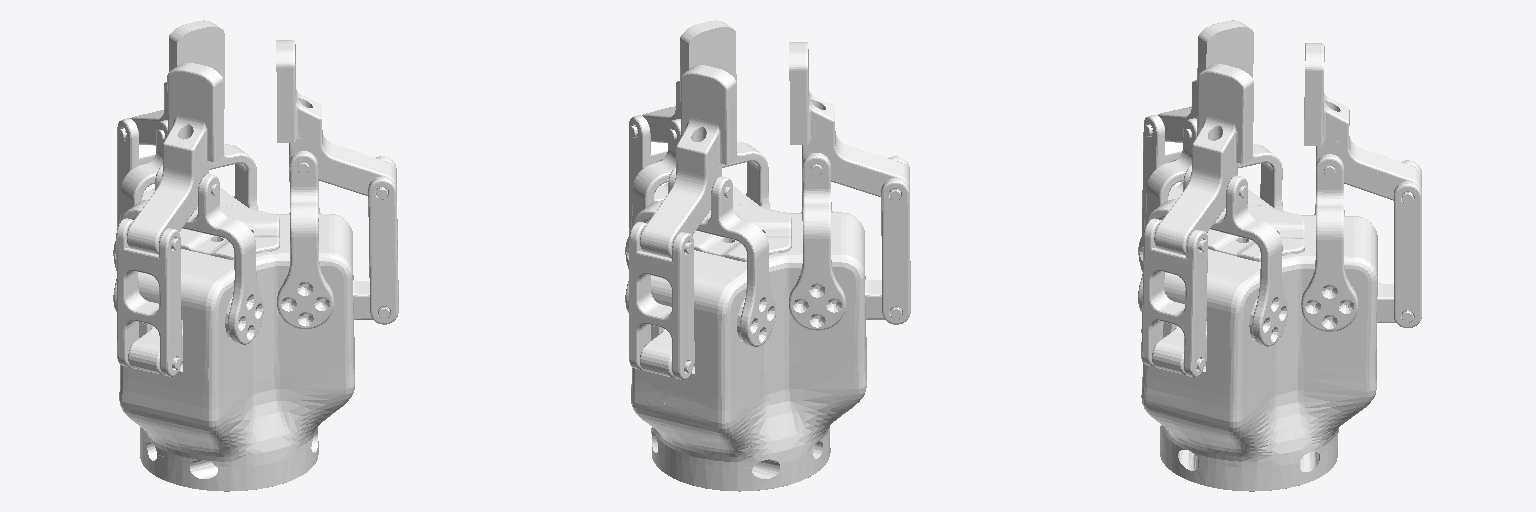
robot.urdf — crt_ctm3f123:
<?xml version="1.0" encoding="utf-8"?>

<robot
  name="crt_ctm3f123">
  <link
    name="base_link">
    <inertial>
      <origin
        xyz="6.10483661037337E-05 0.00088712829711066 0.0548484947516896"
        rpy="0 0 0" />
      <mass
        value="0.606673726061038" />
      <inertia
        ixx="0.000810504728231977"
        ixy="2.86132951420374E-08"
        ixz="1.65426694206615E-06"
        iyy="0.000811428888685944"
        iyz="-2.02043306195685E-06"
        izz="0.000686571783532389" />
    </inertial>
    <visual>
      <origin
        xyz="0 0 0"
        rpy="0 0 0" />
      <geometry>
        <mesh
          filename="package://crt_ctm3f123_gripper_visualization/meshes/base_link.STL" />
      </geometry>
      <material
        name="">
        <color
          rgba="1 1 1 1" />
      </material>
    </visual>
    <collision>
      <origin
        xyz="0 0 0"
        rpy="0 0 0" />
      <geometry>
        <mesh
          filename="package://crt_ctm3f123_gripper_visualization/meshes/base_link.STL" />
      </geometry>
    </collision>
  </link>
  <link
    name="Main_1_Link">
    <inertial>
      <origin
        xyz="-0.000535747842268744 0.0329508527955374 -9.0000000000002E-05"
        rpy="0 0 0" />
      <mass
        value="0.0157120232933615" />
      <inertia
        ixx="1.04207957946001E-05"
        ixy="6.65261563033867E-08"
        ixz="-2.79695286376013E-21"
        iyy="6.3302257174426E-06"
        iyz="-1.48966365300576E-21"
        izz="4.56030811672516E-06" />
    </inertial>
    <visual>
      <origin
        xyz="0 0 0"
        rpy="0 0 0" />
      <geometry>
        <mesh
          filename="package://crt_ctm3f123_gripper_visualization/meshes/Main_1_Link.STL" />
      </geometry>
      <material
        name="">
        <color
          rgba="1 1 1 1" />
      </material>
    </visual>
    <collision>
      <origin
        xyz="0 0 0"
        rpy="0 0 0" />
      <geometry>
        <mesh
          filename="package://crt_ctm3f123_gripper_visualization/meshes/Main_1_Link.STL" />
      </geometry>
    </collision>
  </link>
  <joint
    name="Main_1_Joint"
    type="revolute">
    <origin
      xyz="0 0.033994 0.082211"
      rpy="1.5708 0.016174 1.5708" />
    <parent
      link="base_link" />
    <child
      link="Main_1_Link" />
    <axis
      xyz="0 0 1" />
    <limit
      lower="0"
      upper="-1"
      effort="2"
      velocity="1000" />
  </joint>
  <link
    name="Out_1_Link">
    <inertial>
      <origin
        xyz="-0.000238568911329937 0.0199085484128003 -8.99982504162629E-05"
        rpy="0 0 0" />
      <mass
        value="0.0136187304994763" />
      <inertia
        ixx="3.64179520695042E-06"
        ixy="1.85391666443482E-08"
        ixz="-1.07591799730526E-13"
        iyy="1.17762675681499E-06"
        iyz="-4.06303403749204E-13"
        izz="2.69525213768084E-06" />
    </inertial>
    <visual>
      <origin
        xyz="0 0 0"
        rpy="0 0 0" />
      <geometry>
        <mesh
          filename="package://crt_ctm3f123_gripper_visualization/meshes/Out_1_Link.STL" />
      </geometry>
      <material
        name="">
        <color
          rgba="1 1 1 1" />
      </material>
    </visual>
    <collision>
      <origin
        xyz="0 0 0"
        rpy="0 0 0" />
      <geometry>
        <mesh
          filename="package://crt_ctm3f123_gripper_visualization/meshes/Out_1_Link.STL" />
      </geometry>
    </collision>
  </link>
  <joint
    name="Out_1_Joint"
    type="revolute">
    <origin
      xyz="0 0.0667911467519449 0.0696788586422166"
      rpy="1.5707963267949 0.0161743379073906 1.57079632679491" />
    <parent
      link="base_link" />
    <child
      link="Out_1_Link" />
    <axis
      xyz="0 0 1" />
    <limit
      lower="0"
      upper="0"
      effort="0"
      velocity="0" />
    <mimic
      joint="Main_1_Joint"
      multiplier="1"
      offset="0" />
  </joint>
  <link
    name="Support_1_Link">
    <inertial>
      <origin
        xyz="-0.0123631851738163 0.00547576442060571 -8.99999779483683E-05"
        rpy="0 0 0" />
      <mass
        value="0.0122909079008009" />
      <inertia
        ixx="8.48949906863574E-07"
        ixy="4.95789221160508E-07"
        ixz="2.06056282894619E-16"
        iyy="1.50474900925647E-06"
        iyz="-1.70451449345108E-15"
        izz="1.48435203428893E-06" />
    </inertial>
    <visual>
      <origin
        xyz="0 0 0"
        rpy="0 0 0" />
      <geometry>
        <mesh
          filename="package://crt_ctm3f123_gripper_visualization/meshes/Support_1_Link.STL" />
      </geometry>
      <material
        name="">
        <color
          rgba="1 1 1 1" />
      </material>
    </visual>
    <collision>
      <origin
        xyz="0 0 0"
        rpy="0 0 0" />
      <geometry>
        <mesh
          filename="package://crt_ctm3f123_gripper_visualization/meshes/Support_1_Link.STL" />
      </geometry>
    </collision>
  </link>
  <joint
    name="Support_1_Joint"
    type="revolute">
    <origin
      xyz="-0.000889549797987152 0.0549928059036544 0"
      rpy="0 0 0" />
    <parent
      link="Out_1_Link" />
    <child
      link="Support_1_Link" />
    <axis
      xyz="0 0 1" />
    <limit
      lower="0"
      upper="0"
      effort="0"
      velocity="0" />
    <mimic
      joint="Main_1_Joint"
      multiplier="-1"
      offset="0" />
  </joint>
  <link
    name="Pad_1_Link">
    <inertial>
      <origin
        xyz="0.00493838635631292 -0.000177137702892627 -8.99989859266225E-05"
        rpy="0 0 0" />
      <mass
        value="0.00909573489215947" />
      <inertia
        ixx="1.5263456533175E-06"
        ixy="1.37219715171367E-07"
        ixz="-5.68914467932543E-15"
        iyy="4.74434481145163E-07"
        iyz="2.1359093024446E-15"
        izz="1.28732406525385E-06" />
    </inertial>
    <visual>
      <origin
        xyz="0 0 0"
        rpy="0 0 0" />
      <geometry>
        <mesh
          filename="package://crt_ctm3f123_gripper_visualization/meshes/Pad_1_Link.STL" />
      </geometry>
      <material
        name="">
        <color
          rgba="1 1 1 1" />
      </material>
    </visual>
    <collision>
      <origin
        xyz="0 0 0"
        rpy="0 0 0" />
      <geometry>
        <mesh
          filename="package://crt_ctm3f123_gripper_visualization/meshes/Pad_1_Link.STL" />
      </geometry>
    </collision>
  </link>
  <joint
    name="Pad_1_Joint"
    type="fixed">
    <origin
      xyz="-0.043496177396521 0.0402499021664913 0"
      rpy="0 0 0" />
    <parent
      link="Support_1_Link" />
    <child
      link="Pad_1_Link" />
    <axis
      xyz="0 0 0" />
  </joint>
  <link
    name="Main_2_Link">
    <inertial>
      <origin
        xyz="2.45539699683661E-13 0.0329552078692227 -5.15540735102071E-13"
        rpy="0 0 0" />
      <mass
        value="0.0157120232933615" />
      <inertia
        ixx="1.04218774432274E-05"
        ixy="9.95511867207569E-22"
        ixz="-2.32934060494933E-21"
        iyy="6.32914406881531E-06"
        iyz="-2.40089172793516E-21"
        izz="4.56030811672515E-06" />
    </inertial>
    <visual>
      <origin
        xyz="0 0 0"
        rpy="0 0 0" />
      <geometry>
        <mesh
          filename="package://crt_ctm3f123_gripper_visualization/meshes/Main_2_Link.STL" />
      </geometry>
      <material
        name="">
        <color
          rgba="1 1 1 1" />
      </material>
    </visual>
    <collision>
      <origin
        xyz="0 0 0"
        rpy="0 0 0" />
      <geometry>
        <mesh
          filename="package://crt_ctm3f123_gripper_visualization/meshes/Main_2_Link.STL" />
      </geometry>
    </collision>
  </link>
  <joint
    name="Main_2_Joint"
    type="revolute">
    <origin
      xyz="-0.028329 -0.014912 0.083002"
      rpy="1.5848 -0.0068726 -2.618" />
    <parent
      link="base_link" />
    <child
      link="Main_2_Link" />
    <axis
      xyz="0 0 1" />
    <limit
      lower="0"
      upper="-1"
      effort="2"
      velocity="1000" />
  </joint>
  <link
    name="Out_2_Link">
    <inertial>
      <origin
        xyz="8.3455594281967E-05 0.0199098028677392 1.79239523917518E-09"
        rpy="0 0 0" />
      <mass
        value="0.0136187304994763" />
      <inertia
        ixx="3.64175022691304E-06"
        ixy="-2.13198748979172E-08"
        ixz="-1.1414912755192E-13"
        iyy="1.17767173685237E-06"
        iyz="-4.04510112385358E-13"
        izz="2.69525213768084E-06" />
    </inertial>
    <visual>
      <origin
        xyz="0 0 0"
        rpy="0 0 0" />
      <geometry>
        <mesh
          filename="package://crt_ctm3f123_gripper_visualization/meshes/Out_2_Link.STL" />
      </geometry>
      <material
        name="">
        <color
          rgba="1 1 1 1" />
      </material>
    </visual>
    <collision>
      <origin
        xyz="0 0 0"
        rpy="0 0 0" />
      <geometry>
        <mesh
          filename="package://crt_ctm3f123_gripper_visualization/meshes/Out_2_Link.STL" />
      </geometry>
    </collision>
  </link>
  <joint
    name="Out_2_Joint"
    type="revolute">
    <origin
      xyz="-0.0569042876721976 -0.0316012145153478 0.0712704287330768"
      rpy="1.58480388452747 -0.00678989444617694 -2.61803234894306" />
    <parent
      link="base_link" />
    <child
      link="Out_2_Link" />
    <axis
      xyz="0 0 1" />
    <limit
      lower="0"
      upper="0"
      effort="0"
      velocity="0" />
    <mimic
      joint="Main_2_Joint"
      multiplier="1"
      offset="0" />
  </joint>
  <link
    name="Support_2_Link">
    <inertial>
      <origin
        xyz="-0.0123702645443338 0.00545975303282406 2.19268804502182E-11"
        rpy="0 0 0" />
      <mass
        value="0.0122909079008008" />
      <inertia
        ixx="8.47667196140137E-07"
        ixy="4.94938487017408E-07"
        ixz="2.08263537691881E-16"
        iyy="1.50603171997988E-06"
        iyz="-1.70424784352713E-15"
        izz="1.48435203428892E-06" />
    </inertial>
    <visual>
      <origin
        xyz="0 0 0"
        rpy="0 0 0" />
      <geometry>
        <mesh
          filename="package://crt_ctm3f123_gripper_visualization/meshes/Support_2_Link.STL" />
      </geometry>
      <material
        name="">
        <color
          rgba="1 1 1 1" />
      </material>
    </visual>
    <collision>
      <origin
        xyz="0 0 0"
        rpy="0 0 0" />
      <geometry>
        <mesh
          filename="package://crt_ctm3f123_gripper_visualization/meshes/Support_2_Link.STL" />
      </geometry>
    </collision>
  </link>
  <joint
    name="Support_2_Joint"
    type="revolute">
    <origin
      xyz="0 0.0549999999999986 0"
      rpy="0 0 0" />
    <parent
      link="Out_2_Link" />
    <child
      link="Support_2_Link" />
    <axis
      xyz="0 0 -1" />
    <limit
      lower="0"
      upper="0"
      effort="0"
      velocity="0" />
    <mimic
      joint="Main_2_Joint"
      multiplier="1"
      offset="0" />
  </joint>
  <link
    name="Pad_2_Link">
    <inertial>
      <origin
        xyz="0.00444230028121621 -0.000177148196383092 1.59317946335502E-09"
        rpy="0 0 0" />
      <mass
        value="0.00909573436524331" />
      <inertia
        ixx="1.526346267087E-06"
        ixy="1.37217372336794E-07"
        ixz="-5.65396096890285E-14"
        iyy="4.74434022342762E-07"
        iyz="5.61264906120924E-14"
        izz="1.28732422145679E-06" />
    </inertial>
    <visual>
      <origin
        xyz="0 0 0"
        rpy="0 0 0" />
      <geometry>
        <mesh
          filename="package://crt_ctm3f123_gripper_visualization/meshes/Pad_2_Link.STL" />
      </geometry>
      <material
        name="">
        <color
          rgba="1 1 1 1" />
      </material>
    </visual>
    <collision>
      <origin
        xyz="0 0 0"
        rpy="0 0 0" />
      <geometry>
        <mesh
          filename="package://crt_ctm3f123_gripper_visualization/meshes/Pad_2_Link.STL" />
      </geometry>
    </collision>
  </link>
  <joint
    name="Pad_2_Joint"
    type="fixed">
    <origin
      xyz="-0.0430521666305954 0.0401941967009787 0"
      rpy="0 0 0.00129696423438193" />
    <parent
      link="Support_2_Link" />
    <child
      link="Pad_2_Link" />
    <axis
      xyz="0 0 0" />
  </joint>
  <link
    name="Main_3_Link">
    <inertial>
      <origin
        xyz="-3.36876360140792E-13 0.0329552078692228 0.0235000000001598"
        rpy="0 0 0" />
      <mass
        value="0.0157120232933615" />
      <inertia
        ixx="1.04218774432274E-05"
        ixy="-3.57342024622908E-22"
        ixz="4.2351647362715E-22"
        iyy="6.32914406881532E-06"
        iyz="1.15557131573658E-21"
        izz="4.56030811672515E-06" />
    </inertial>
    <visual>
      <origin
        xyz="0 0 0"
        rpy="0 0 0" />
      <geometry>
        <mesh
          filename="package://crt_ctm3f123_gripper_visualization/meshes/Main_3_Link.STL" />
      </geometry>
      <material
        name="">
        <color
          rgba="1 1 1 1" />
      </material>
    </visual>
    <collision>
      <origin
        xyz="0 0 0"
        rpy="0 0 0" />
      <geometry>
        <mesh
          filename="package://crt_ctm3f123_gripper_visualization/meshes/Main_3_Link.STL" />
      </geometry>
    </collision>
  </link>
  <joint
    name="Main_3_Joint"
    type="revolute">
    <origin
      xyz="0.039989 0.0052815 0.082675"
      rpy="1.5568 -0.01517 -0.52344" />
    <parent
      link="base_link" />
    <child
      link="Main_3_Link" />
    <axis
      xyz="0 0 1" />
    <limit
      lower="0"
      upper="-1"
      effort="2"
      velocity="1000" />
  </joint>
  <link
    name="Out_3_Link">
    <inertial>
      <origin
        xyz="8.34555943282356E-05 0.0199098028677413 1.79203783756687E-09"
        rpy="0 0 0" />
      <mass
        value="0.0136187304994763" />
      <inertia
        ixx="3.64175022691304E-06"
        ixy="-2.13198748979175E-08"
        ixz="-1.14149128398953E-13"
        iyy="1.17767173685237E-06"
        iyz="-4.04510107041048E-13"
        izz="2.69525213768083E-06" />
    </inertial>
    <visual>
      <origin
        xyz="0 0 0"
        rpy="0 0 0" />
      <geometry>
        <mesh
          filename="package://crt_ctm3f123_gripper_visualization/meshes/Out_3_Link.STL" />
      </geometry>
      <material
        name="">
        <color
          rgba="1 1 1 1" />
      </material>
    </visual>
    <collision>
      <origin
        xyz="0 0 0"
        rpy="0 0 0" />
      <geometry>
        <mesh
          filename="package://crt_ctm3f123_gripper_visualization/meshes/Out_3_Link.STL" />
      </geometry>
    </collision>
  </link>
  <joint
    name="Out_3_Joint"
    type="revolute">
    <origin
      xyz="0.056814 -0.031757 0.071273"
      rpy="1.5568 -0.015087 -0.52344" />
    <parent
      link="base_link" />
    <child
      link="Out_3_Link" />
    <axis
      xyz="0 0 1" />
    <limit
      lower="0"
      upper="0"
      effort="0"
      velocity="0" />
    <mimic
      joint="Main_3_Joint"
      multiplier="1"
      offset="0" />
  </joint>
  <link
    name="Support_3_Link">
    <inertial>
      <origin
        xyz="-0.0123245413983009 0.00556219627646529 2.49060945478607E-11"
        rpy="0 0 0" />
      <mass
        value="0.0122909079008009" />
      <inertia
        ixx="8.55924845764464E-07"
        ixy="5.00332350260027E-07"
        ixz="1.94114328764031E-16"
        iyy="1.49777407035557E-06"
        iyz="-1.70591394115266E-15"
        izz="1.48435203428893E-06" />
    </inertial>
    <visual>
      <origin
        xyz="0 0 0"
        rpy="0 0 0" />
      <geometry>
        <mesh
          filename="package://crt_ctm3f123_gripper_visualization/meshes/Support_3_Link.STL" />
      </geometry>
      <material
        name="">
        <color
          rgba="1 1 1 1" />
      </material>
    </visual>
    <collision>
      <origin
        xyz="0 0 0"
        rpy="0 0 0" />
      <geometry>
        <mesh
          filename="package://crt_ctm3f123_gripper_visualization/meshes/Support_3_Link.STL" />
      </geometry>
    </collision>
  </link>
  <joint
    name="Support_3_Joint"
    type="revolute">
    <origin
      xyz="0 0.0549999999999922 0"
      rpy="0 0 0" />
    <parent
      link="Out_3_Link" />
    <child
      link="Support_3_Link" />
    <axis
      xyz="0 0 1" />
    <limit
      lower="0"
      upper="0"
      effort="0"
      velocity="0" />
    <mimic
      joint="Main_3_Joint"
      multiplier="-1"
      offset="0" />
  </joint>
  <link
    name="Pad_3_Link">
    <inertial>
      <origin
        xyz="0.00444230031208294 -0.000177148394120613 7.569224344528E-10"
        rpy="0 0 0" />
      <mass
        value="0.00909573539619472" />
      <inertia
        ixx="1.52634626128454E-06"
        ixy="1.3721736824991E-07"
        ixz="5.2473798920286E-14"
        iyy="4.74433991276996E-07"
        iyz="3.66713281031436E-14"
        izz="1.28732420247029E-06" />
    </inertial>
    <visual>
      <origin
        xyz="0 0 0"
        rpy="0 0 0" />
      <geometry>
        <mesh
          filename="package://crt_ctm3f123_gripper_visualization/meshes/Pad_3_Link.STL" />
      </geometry>
      <material
        name="">
        <color
          rgba="1 1 1 1" />
      </material>
    </visual>
    <collision>
      <origin
        xyz="0 0 0"
        rpy="0 0 0" />
      <geometry>
        <mesh
          filename="package://crt_ctm3f123_gripper_visualization/meshes/Pad_3_Link.STL" />
      </geometry>
    </collision>
  </link>
  <joint
    name="Pad_3_Joint"
    type="fixed">
    <origin
      xyz="-0.0427172096547915 0.0405499999872442 0"
      rpy="0 0 -0.00699973234500595" />
    <parent
      link="Support_3_Link" />
    <child
      link="Pad_3_Link" />
    <axis
      xyz="0 0 0" />
  </joint>
</robot>

--- Facts derived from the render (not from the file) ---
3 views of the same robot in one strip: view 1: azimuth 30°, elevation 25°; view 2: azimuth 150°, elevation 25°; view 3: azimuth 270°, elevation 25° (orthographic).
Robot: crt_ctm3f123 — 13 links, 12 joints (9 revolute, 3 fixed); root link base_link; default pose: every joint at zero.
Links seen in each view (by area): view 1: base_link, Out_2_Link, Main_3_Link, Pad_2_Link, Main_2_Link, Out_3_Link, Support_2_Link, Support_3_Link, Main_1_Link, Pad_3_Link, Pad_1_Link, Out_1_Link (+1 smaller); view 2: base_link, Out_1_Link, Main_2_Link, Pad_1_Link, Main_1_Link, Out_2_Link, Support_1_Link, Main_3_Link, Support_2_Link, Pad_2_Link, Pad_3_Link, Out_3_Link (+1 smaller); view 3: base_link, Out_3_Link, Main_1_Link, Pad_3_Link, Main_3_Link, Out_1_Link, Support_3_Link, Main_2_Link, Support_1_Link, Pad_1_Link, Pad_2_Link, Out_2_Link (+1 smaller).
Link boxes in pixels (left/top/right/bottom): base_link: left=119, top=188, right=398, bottom=491; Out_2_Link: left=116, top=218, right=181, bottom=376; Main_3_Link: left=277, top=151, right=333, bottom=328; Pad_2_Link: left=163, top=62, right=223, bottom=169; Main_2_Link: left=113, top=165, right=263, bottom=344; Out_3_Link: left=368, top=156, right=398, bottom=324; Support_2_Link: left=127, top=158, right=208, bottom=254; Support_3_Link: left=289, top=130, right=396, bottom=199; Main_1_Link: left=113, top=120, right=257, bottom=267; Pad_3_Link: left=276, top=40, right=321, bottom=142; Pad_1_Link: left=164, top=20, right=224, bottom=108; Out_1_Link: left=117, top=118, right=155, bottom=227; base_link: left=631, top=186, right=884, bottom=491; Out_1_Link: left=629, top=222, right=693, bottom=379; Main_2_Link: left=789, top=153, right=845, bottom=330; Pad_1_Link: left=676, top=65, right=736, bottom=172; Main_1_Link: left=625, top=167, right=775, bottom=346; Out_2_Link: left=881, top=156, right=910, bottom=324; Support_1_Link: left=640, top=161, right=721, bottom=258; Main_3_Link: left=625, top=119, right=769, bottom=268; Support_2_Link: left=802, top=131, right=909, bottom=200; Pad_2_Link: left=789, top=42, right=834, bottom=144; Pad_3_Link: left=676, top=20, right=736, bottom=104; Out_3_Link: left=629, top=106, right=675, bottom=233; base_link: left=1141, top=189, right=1395, bottom=491; Out_3_Link: left=1141, top=218, right=1207, bottom=376; Main_1_Link: left=1301, top=154, right=1357, bottom=331; Pad_3_Link: left=1192, top=64, right=1253, bottom=170; Main_3_Link: left=1138, top=165, right=1287, bottom=346; Out_1_Link: left=1394, top=160, right=1421, bottom=327; Support_3_Link: left=1154, top=160, right=1237, bottom=255; Main_2_Link: left=1138, top=118, right=1282, bottom=271; Support_1_Link: left=1316, top=136, right=1421, bottom=203; Pad_1_Link: left=1304, top=43, right=1349, bottom=145; Pad_2_Link: left=1192, top=20, right=1253, bottom=113; Out_2_Link: left=1142, top=106, right=1191, bottom=234.
Bounding box of the posed robot: 0.136 × 0.1195 × 0.1891 m (x, y, z).
13 mesh visuals loaded from 13 distinct referenced files (13 binary STL).
